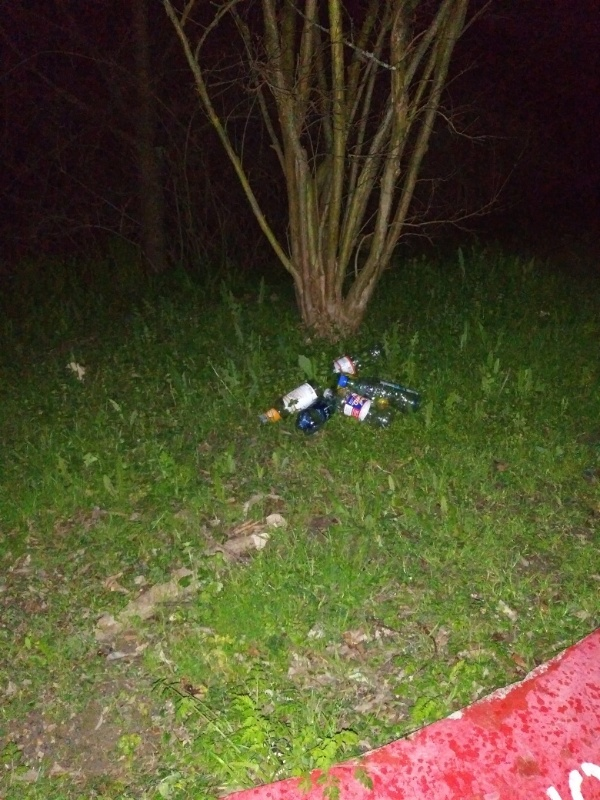bottle: (255, 378, 330, 429), (322, 387, 396, 435), (339, 374, 422, 416), (325, 343, 387, 381), (291, 397, 337, 430)
